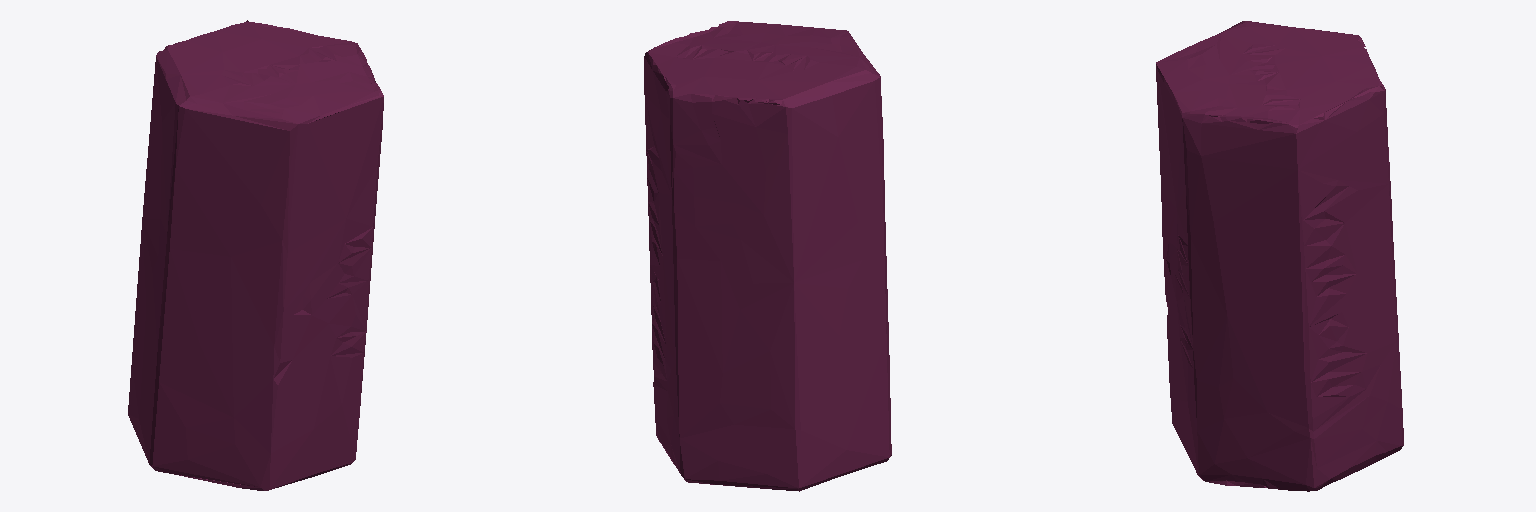
The robot description file, URDF, robot "procedural_obj_Amicelli_800_tex":
<?xml version="0.0" ?>
<!-- based on data/cube.urdf -->
<robot name="procedural_obj_Amicelli_800_tex">
  <link name="procedural_obj_Amicelli_800_tex">
    <contact>
      <lateral_friction value="0.0"/>
      <rolling_friction value="0.0"/>
      <contact_cfm value="0.0"/>
      <contact_erp value="0.0"/>
    </contact>
    <inertial>
      <origin rpy="0 0 0" xyz="0 0 0"/>
      <mass value="1.0"/>
      <inertia ixx="1" ixy="0" ixz="0" iyy="1" iyz="0" izz="1"/>
    </inertial>
    <visual>
      <origin rpy="0 0 0" xyz="0 0 0"/>
      <geometry>
        <mesh filename="../obj/Amicelli_800_tex.obj" scale="1 1 1"/>
      </geometry>
      <material name="random_colour">
        <color rgba="0.431 0.185 0.327 1"/>
      </material>
    </visual>
    <collision>
      <origin rpy="0 0 0" xyz="0 0 0"/>
      <geometry>
        <mesh filename="../obj/Amicelli_800_tex.obj" scale="1 1 1"/>
      </geometry>
    </collision>
  </link>
</robot>

--- Facts derived from the render (not from the file) ---
Views: 3 orthographic renders of the robot side by side, from view 1: azimuth 30°, elevation 25°; view 2: azimuth 150°, elevation 25°; view 3: azimuth 270°, elevation 25°.
Robot: procedural_obj_Amicelli_800_tex — 1 links, 0 joints (none); root link procedural_obj_Amicelli_800_tex; default pose: all joints at 0.
Links seen in each view (by area): view 1: procedural_obj_Amicelli_800_tex; view 2: procedural_obj_Amicelli_800_tex; view 3: procedural_obj_Amicelli_800_tex.
Link boxes in pixels (x1=…): procedural_obj_Amicelli_800_tex: x1=128, y1=20, x2=383, y2=490; procedural_obj_Amicelli_800_tex: x1=644, y1=21, x2=891, y2=491; procedural_obj_Amicelli_800_tex: x1=1156, y1=21, x2=1403, y2=491.
Bounding box of the posed robot: 0.045 × 0.0425 × 0.0741 m (x, y, z).
Meshes: 1 distinct files referenced, 1 mesh visuals loaded (1 OBJ).